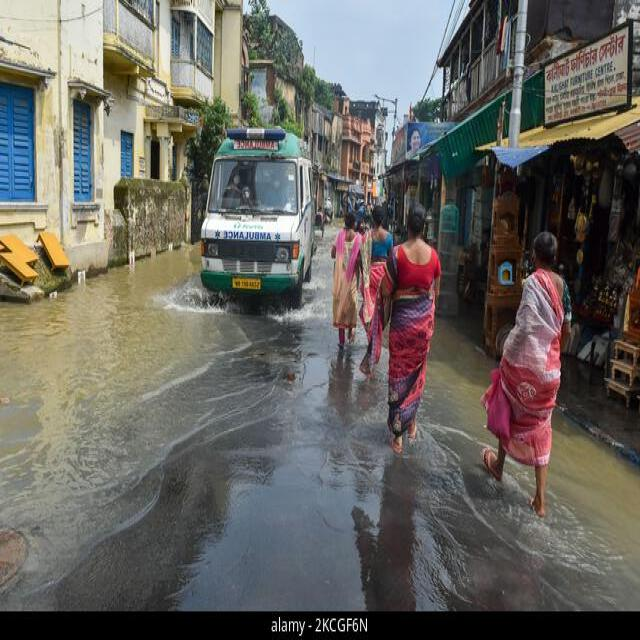emergency: (201, 129, 314, 306)
